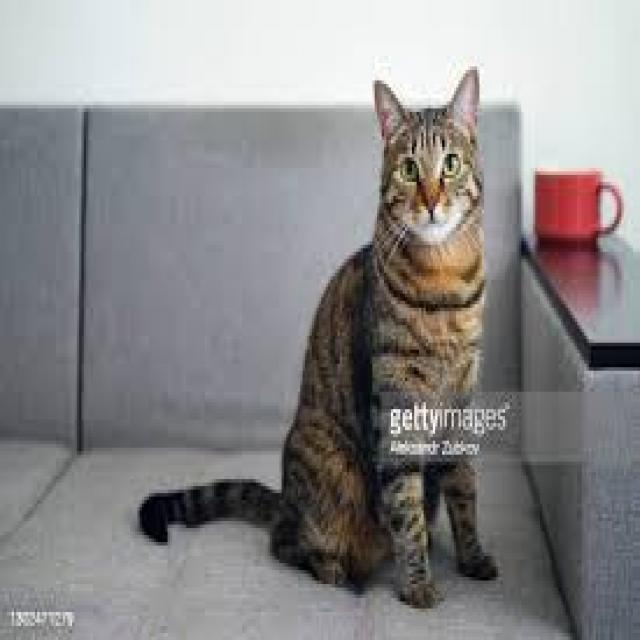Cat: (134, 65, 504, 612)
